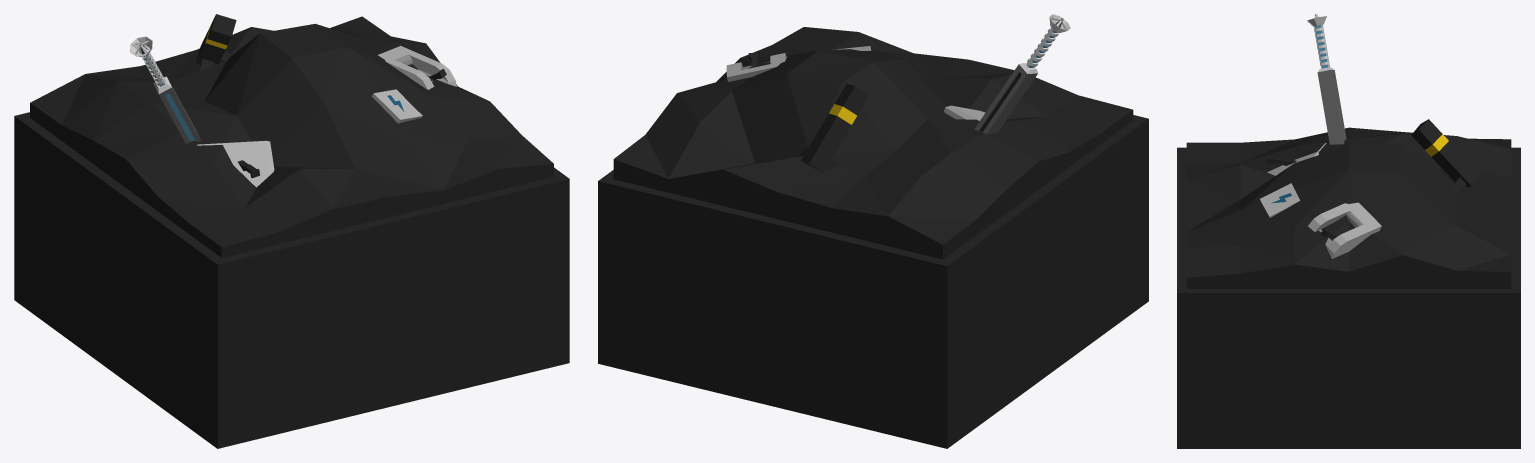
Rendered from Construccion3Destruida.fbx.
3 renders of one model, left to right at view 1: azimuth 30°, elevation 25°; view 2: azimuth 150°, elevation 25°; view 3: azimuth 270°, elevation 25°, orthographic. The views are drawn at different scales.
Visible parts, largest first — view 1: Cube.011; view 2: Cube.011; view 3: Cube.011.
Boxes of the visible parts, bbox=[...] form: Cube.011: bbox=[14, 14, 569, 448]; Cube.011: bbox=[598, 14, 1148, 448]; Cube.011: bbox=[1177, 14, 1520, 448].
Size of the model in its own units: 202 by 188 by 200.
2 materials, 2 textured.
